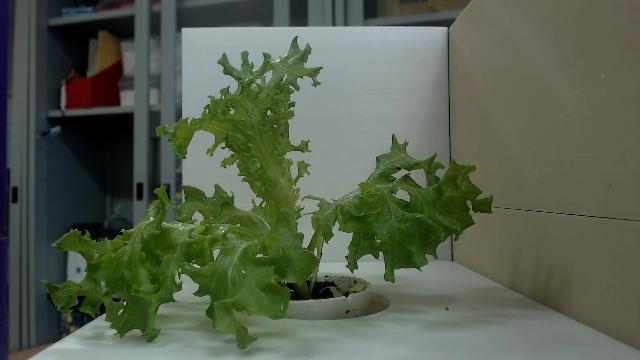Harvest Stage: (44, 33, 496, 349)
